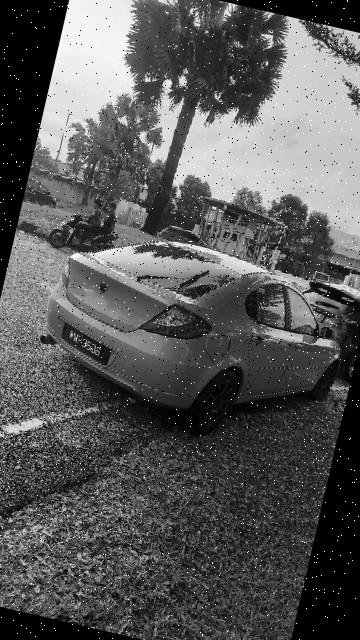License_Plate: (53, 317, 122, 374)
car: (18, 215, 360, 466)
